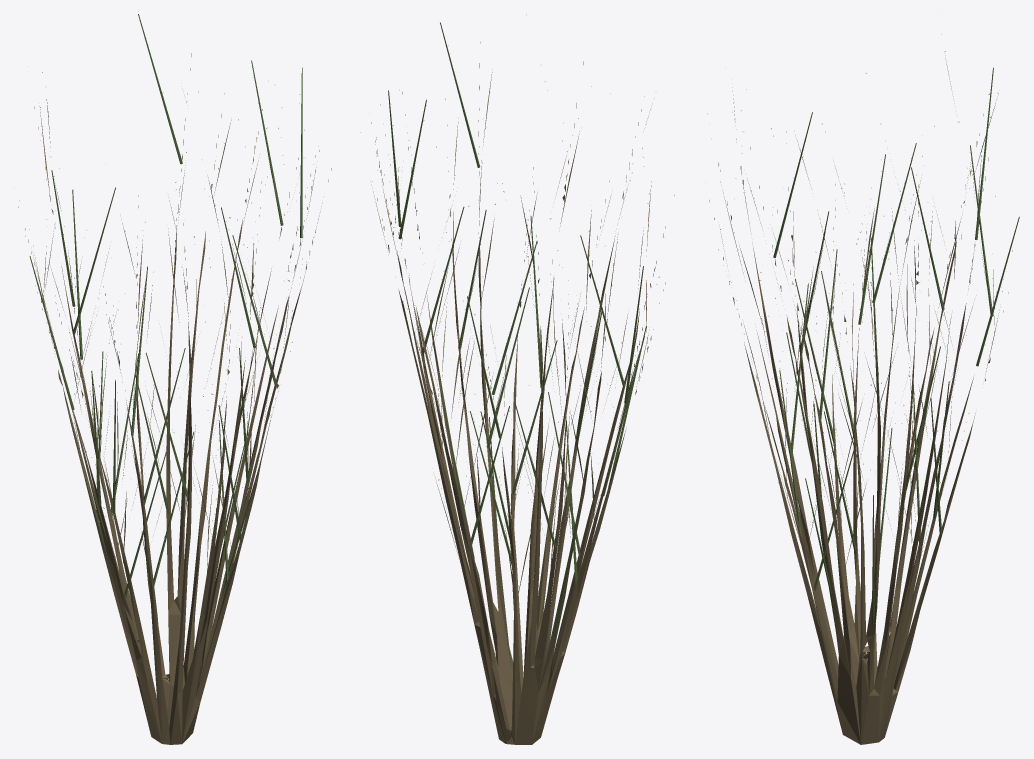
File: BruyereBalais_1_Niveau1.fbx
3 views of the same model, side by side, from view 1: azimuth 30°, elevation 25°; view 2: azimuth 150°, elevation 25°; view 3: azimuth 270°, elevation 25° (orthographic).
Parts seen in each view (by area): view 1: BruyereBalais_1_Niveau1; view 2: BruyereBalais_1_Niveau1; view 3: BruyereBalais_1_Niveau1.
Part boxes in pixels (box(x1,y1,x2,y2)): BruyereBalais_1_Niveau1: box(18, 14, 331, 744); BruyereBalais_1_Niveau1: box(360, 14, 674, 744); BruyereBalais_1_Niveau1: box(707, 34, 1019, 744).
Size of the model in its own units: 93.65 by 218 by 91.14.
